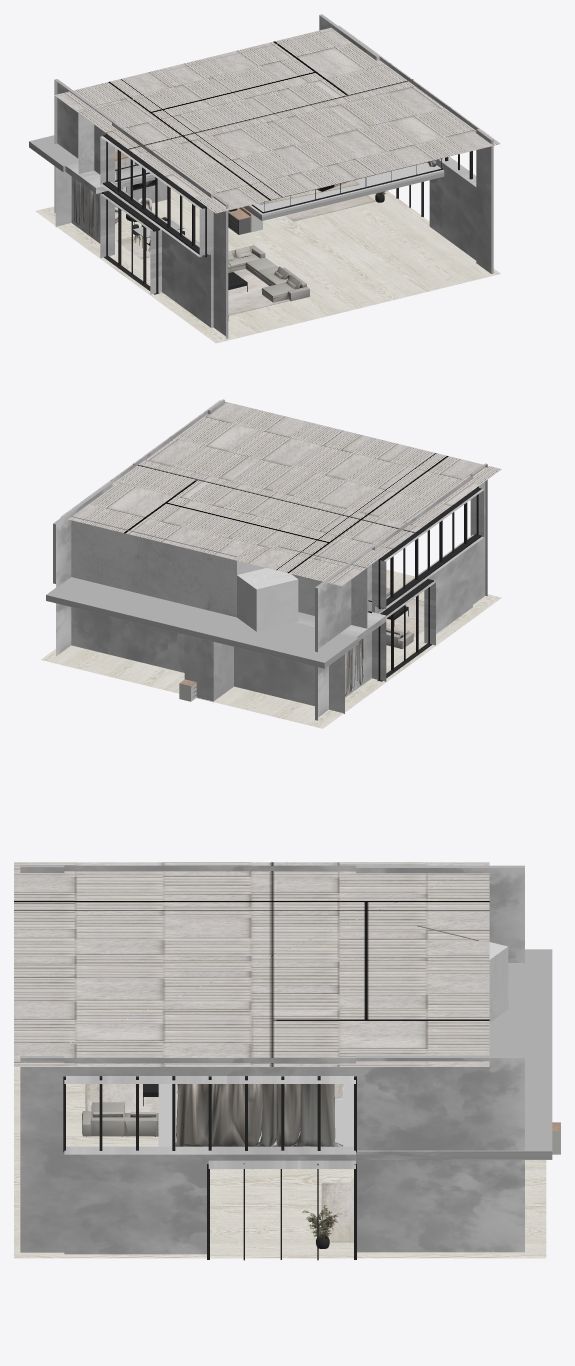
File: interior_apartment.glb
3 views of the same model, one above another, from view 1: azimuth 30°, elevation 25°; view 2: azimuth 150°, elevation 25°; view 3: azimuth 270°, elevation 25° (orthographic). The views are drawn at different scales.
Parts seen in each view (by area): view 1: Plane.012, Plane, Plane.003, node_0.010_Material.002_0, Cube, node_0_Material.005_0, Plane.001, Plane.014, Plane.002, Plane.005, Plane.004, node_0.002_Material.013_0 (+6 smaller); view 2: Plane.012, Plane.002, Plane.003, Plane.001, Cube, Plane, node_0.010_Material.002_0, Plane.005, Plane.014, Plane.004, Plane.006, node_0.002_Material.013_0 (+1 smaller); view 3: Plane.012, node_0.010_Material.002_0, Plane, Cube, node_0.014_Material.013_0, Plane.003, node_0.010_Material.004_0, node_0_Material.005_0, Plane.011, Plane.002, Plane.014, Cube.025.
Part boxes in pixels (bbox=[...]): Plane.012: bbox=[54, 25, 500, 213]; Plane: bbox=[35, 188, 500, 343]; Plane.003: bbox=[54, 79, 228, 338]; node_0.010_Material.002_0: bbox=[319, 14, 493, 273]; Cube: bbox=[29, 135, 444, 220]; node_0_Material.005_0: bbox=[228, 245, 309, 302]; Plane.001: bbox=[55, 167, 167, 227]; Plane.014: bbox=[228, 269, 290, 315]; Plane.002: bbox=[78, 29, 334, 174]; Plane.005: bbox=[106, 133, 206, 257]; Plane.004: bbox=[106, 199, 158, 293]; node_0.002_Material.013_0: bbox=[74, 178, 101, 237]; Plane.012: bbox=[60, 400, 501, 586]; Plane.002: bbox=[71, 516, 367, 631]; Plane.003: bbox=[315, 463, 487, 720]; Plane.001: bbox=[71, 607, 344, 713]; Cube: bbox=[46, 577, 386, 668]; Plane: bbox=[41, 569, 501, 728]; node_0.010_Material.002_0: bbox=[53, 399, 224, 656]; Plane.005: bbox=[378, 486, 478, 608]; Plane.014: bbox=[386, 598, 424, 638]; Plane.004: bbox=[378, 587, 429, 680]; Plane.006: bbox=[377, 534, 481, 608]; node_0.002_Material.013_0: bbox=[345, 638, 363, 695]; Plane.012: bbox=[14, 862, 489, 1066]; node_0.010_Material.002_0: bbox=[20, 1055, 524, 1254]; Plane: bbox=[14, 1067, 546, 1258]; Cube: bbox=[158, 949, 552, 1159]; node_0.014_Material.013_0: bbox=[175, 1084, 342, 1146]; Plane.003: bbox=[20, 865, 524, 962]; node_0.010_Material.004_0: bbox=[63, 1076, 356, 1260]; node_0_Material.005_0: bbox=[82, 1102, 158, 1136]; Plane.011: bbox=[321, 1182, 353, 1242]; Plane.002: bbox=[416, 925, 508, 1022]; Plane.014: bbox=[85, 1084, 158, 1112]; Cube.025: bbox=[302, 1205, 341, 1248].
Bounding box in the file's own units: 20.11 × 8.97 × 12.58.
22 materials, 20 textured.
